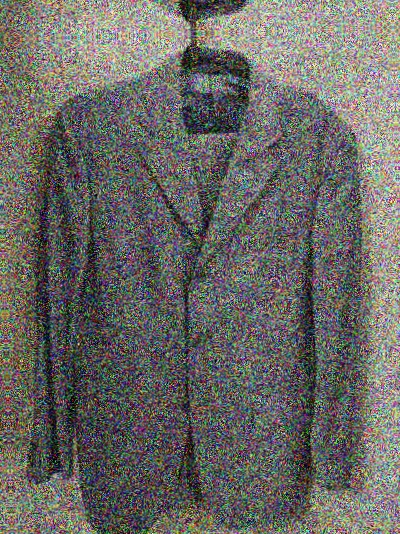Blazer: (15, 50, 383, 534), (0, 0, 367, 17)
